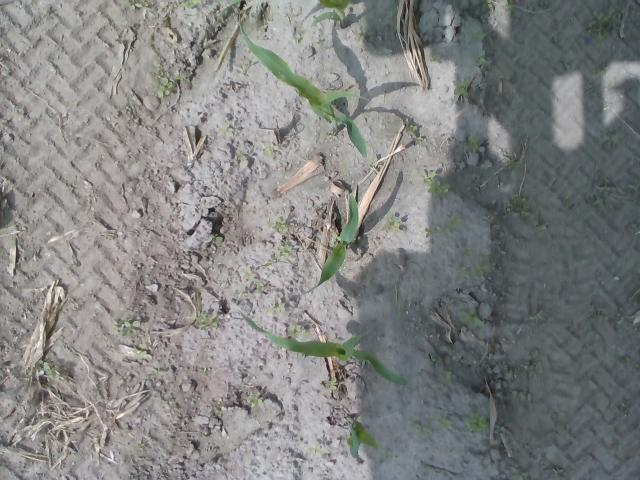Maize: (232, 2, 369, 162), (235, 310, 408, 386), (303, 191, 362, 294), (296, 0, 362, 29), (347, 414, 382, 462)
Weeds: (504, 194, 550, 236), (502, 349, 544, 380), (454, 246, 493, 278), (592, 2, 621, 43), (153, 62, 186, 98), (428, 353, 458, 382), (420, 167, 448, 196), (478, 0, 516, 16), (591, 64, 616, 88), (401, 118, 422, 145), (110, 320, 141, 338), (443, 210, 465, 234), (36, 358, 62, 378), (458, 308, 484, 326), (465, 413, 488, 432), (285, 324, 310, 341), (195, 314, 218, 330), (358, 30, 376, 50), (384, 216, 402, 234), (270, 218, 290, 234), (452, 78, 468, 98), (472, 53, 492, 69), (508, 386, 528, 401), (216, 122, 234, 138), (509, 468, 532, 480), (464, 136, 478, 155), (264, 144, 280, 160), (413, 424, 438, 434), (468, 30, 487, 43), (180, 0, 207, 9), (275, 246, 295, 258), (306, 444, 326, 455), (526, 311, 545, 322), (434, 416, 450, 428), (270, 302, 286, 314), (126, 0, 144, 10), (247, 395, 263, 406), (207, 232, 224, 242), (234, 150, 248, 162), (430, 54, 442, 66), (328, 380, 340, 391), (135, 350, 146, 359), (135, 442, 145, 450), (237, 59, 244, 66)
